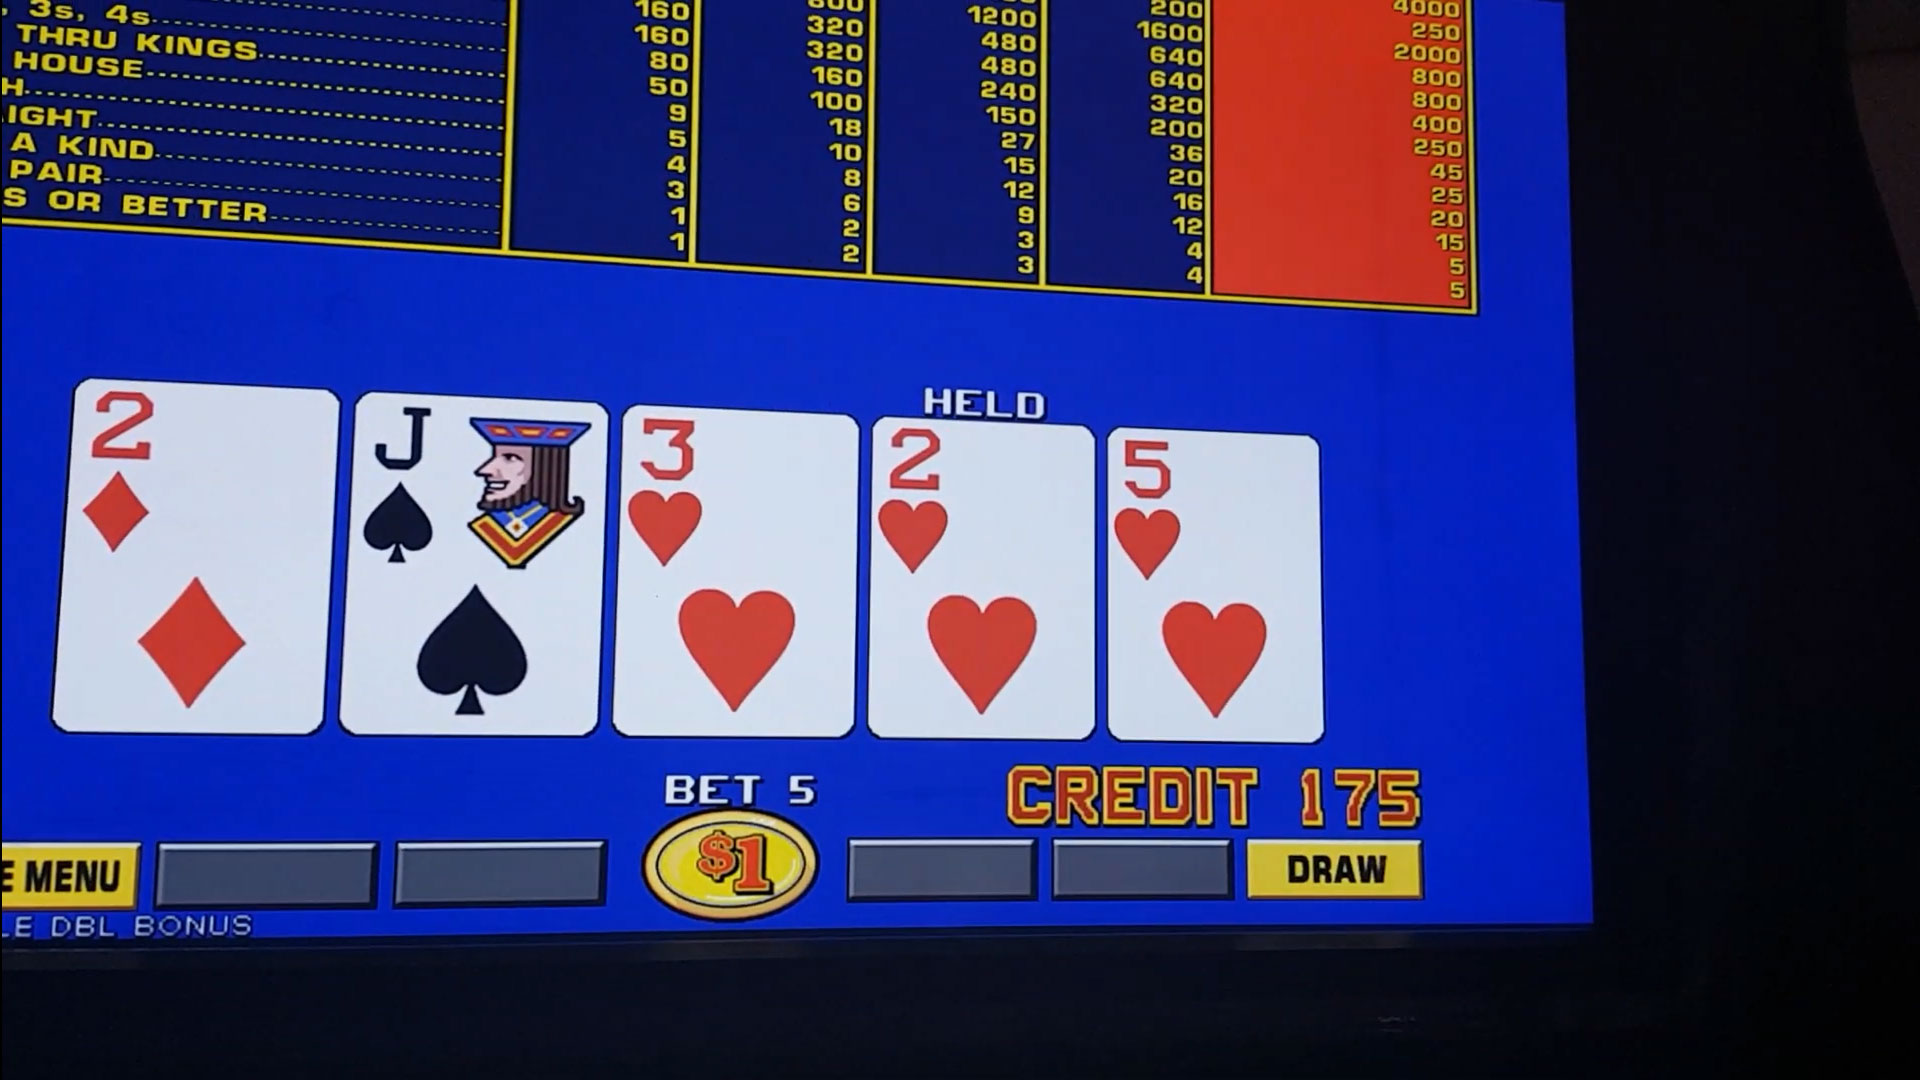D2: (84, 392, 331, 578)
H2: (877, 431, 1091, 593)
H3: (625, 415, 855, 588)
H5: (1112, 440, 1317, 588)
SJ: (363, 406, 601, 585)
